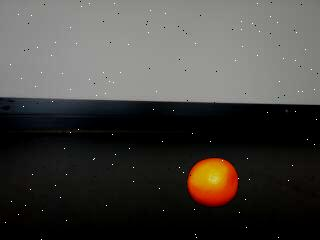Orange: (186, 156, 240, 209)
